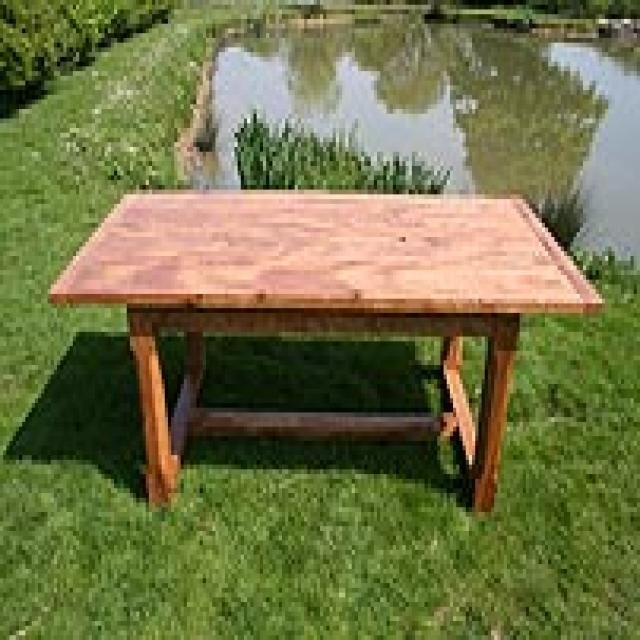table: (48, 189, 606, 514)
